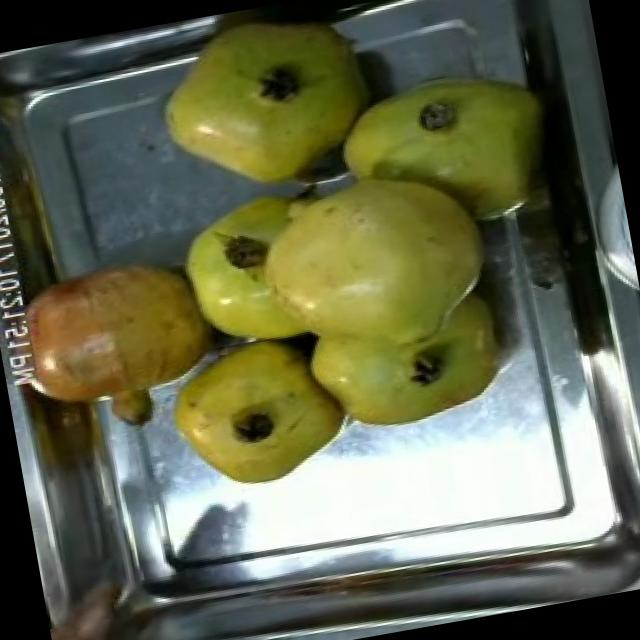fruit: (135, 0, 407, 214), (281, 249, 522, 448), (0, 240, 224, 441), (152, 322, 344, 502), (159, 181, 328, 360)
